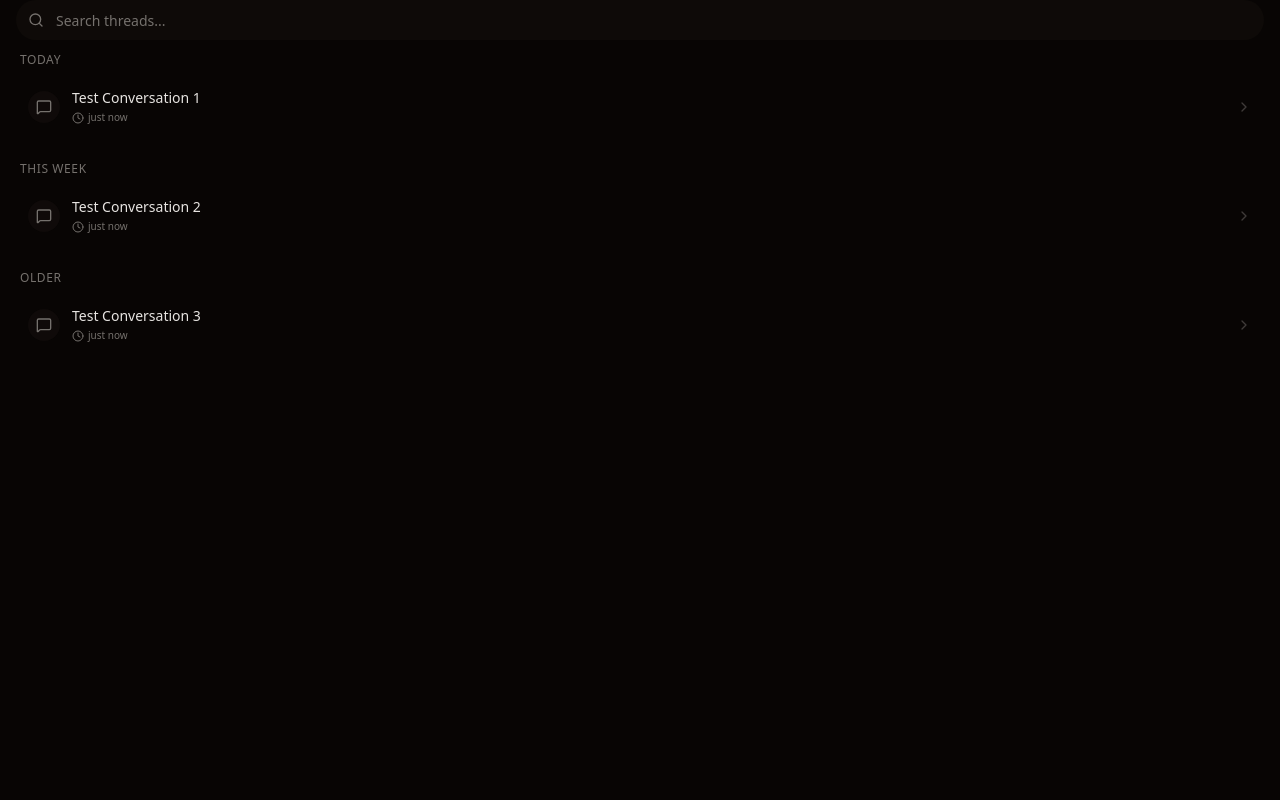
Test: ChatHistoryContent › Search Functionality › should clear search when clear button is clicked
Type "test" into the field with placeholder "Search threads...".
click(640, 20); type("test")  # box top-left (16, 0), bottom-right (1264, 40)
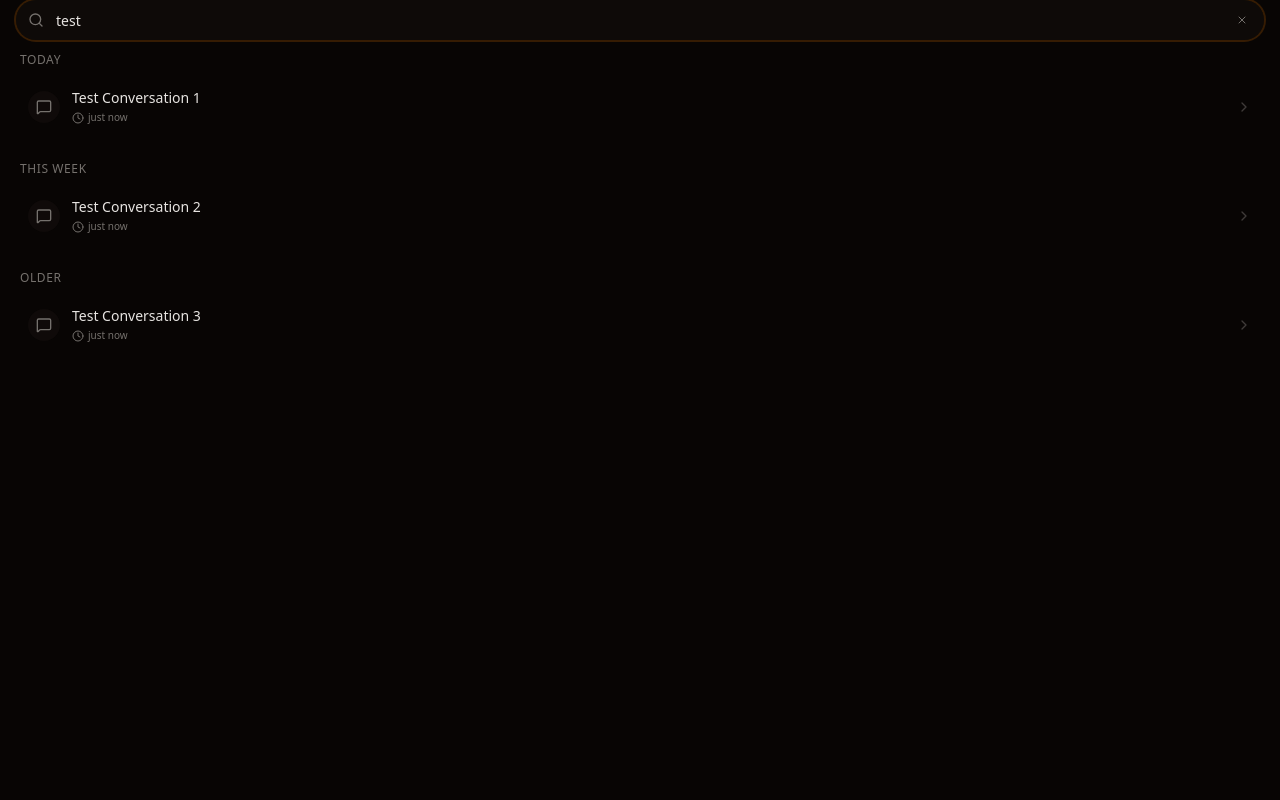
Click the button named "Clear search".
click(1242, 20)  # box top-left (1232, 10), bottom-right (1252, 30)
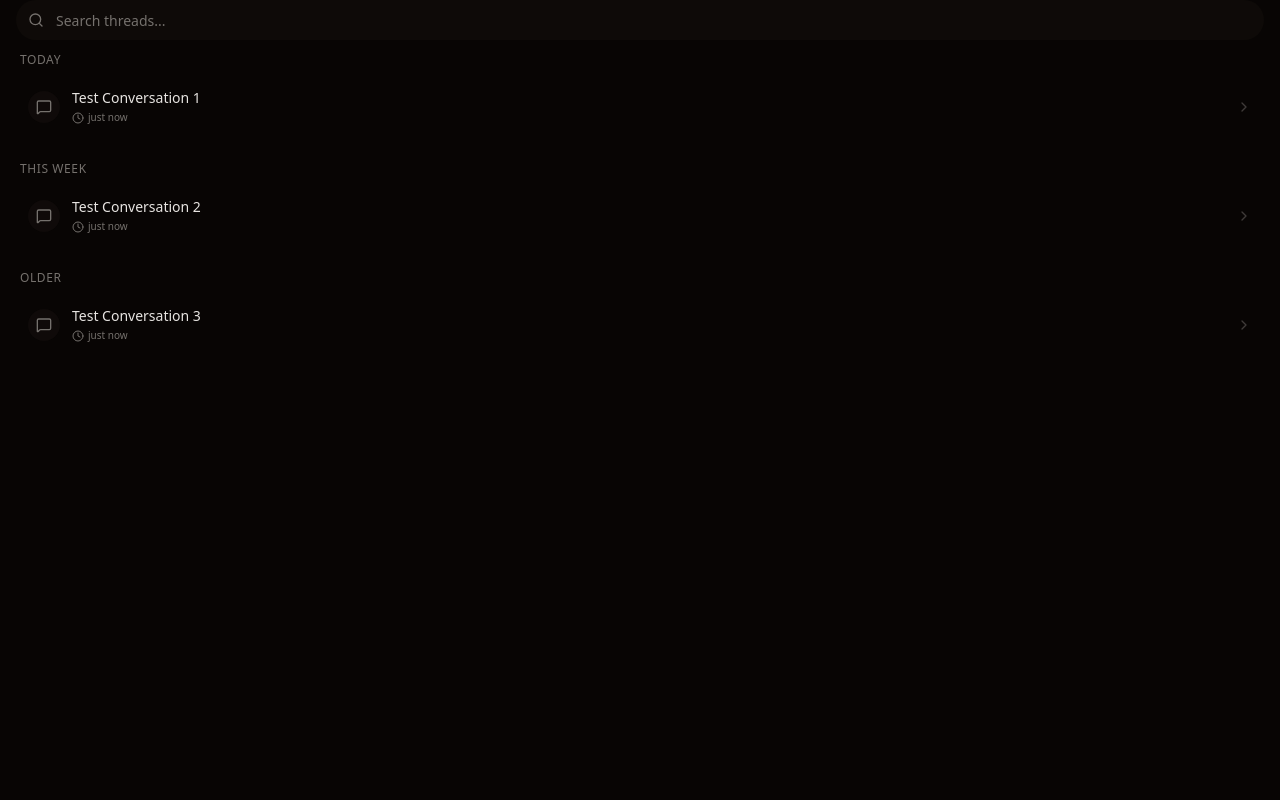
Check: the field with placeholder "Search threads..." is empty, box top-left (16, 0), bottom-right (1264, 40)
